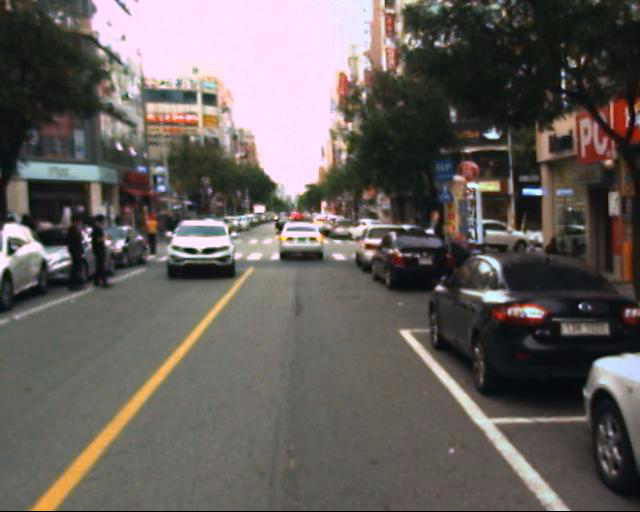person: (59, 205, 101, 298), (88, 207, 126, 299)
